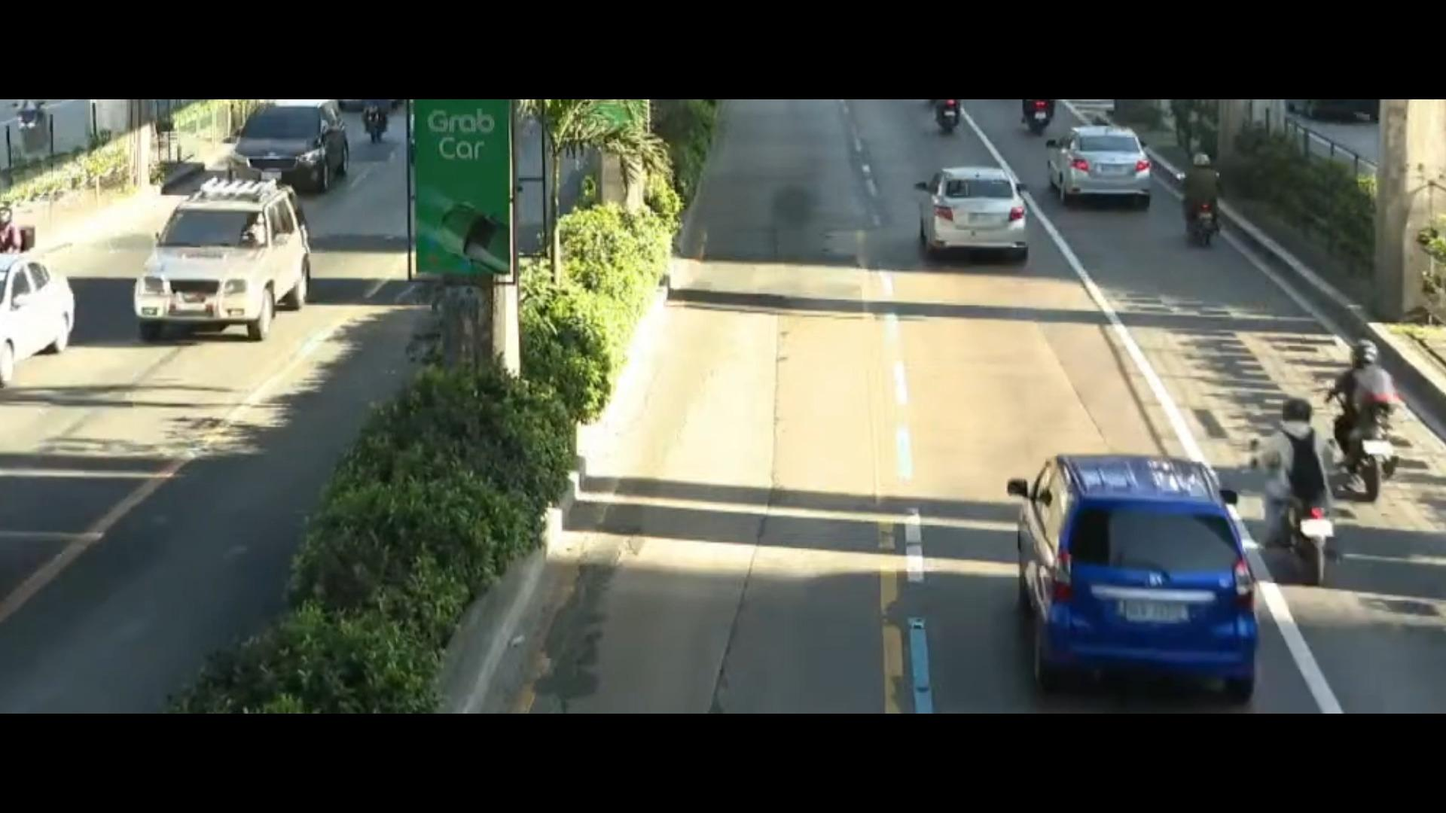Motorcycle: (1239, 382, 1369, 608), (1330, 330, 1414, 520), (1170, 141, 1241, 267)
SUV: (980, 439, 1271, 709), (128, 175, 328, 354), (214, 89, 360, 197)
Sedan: (907, 151, 1041, 296), (1044, 113, 1161, 214), (0, 253, 93, 368)
